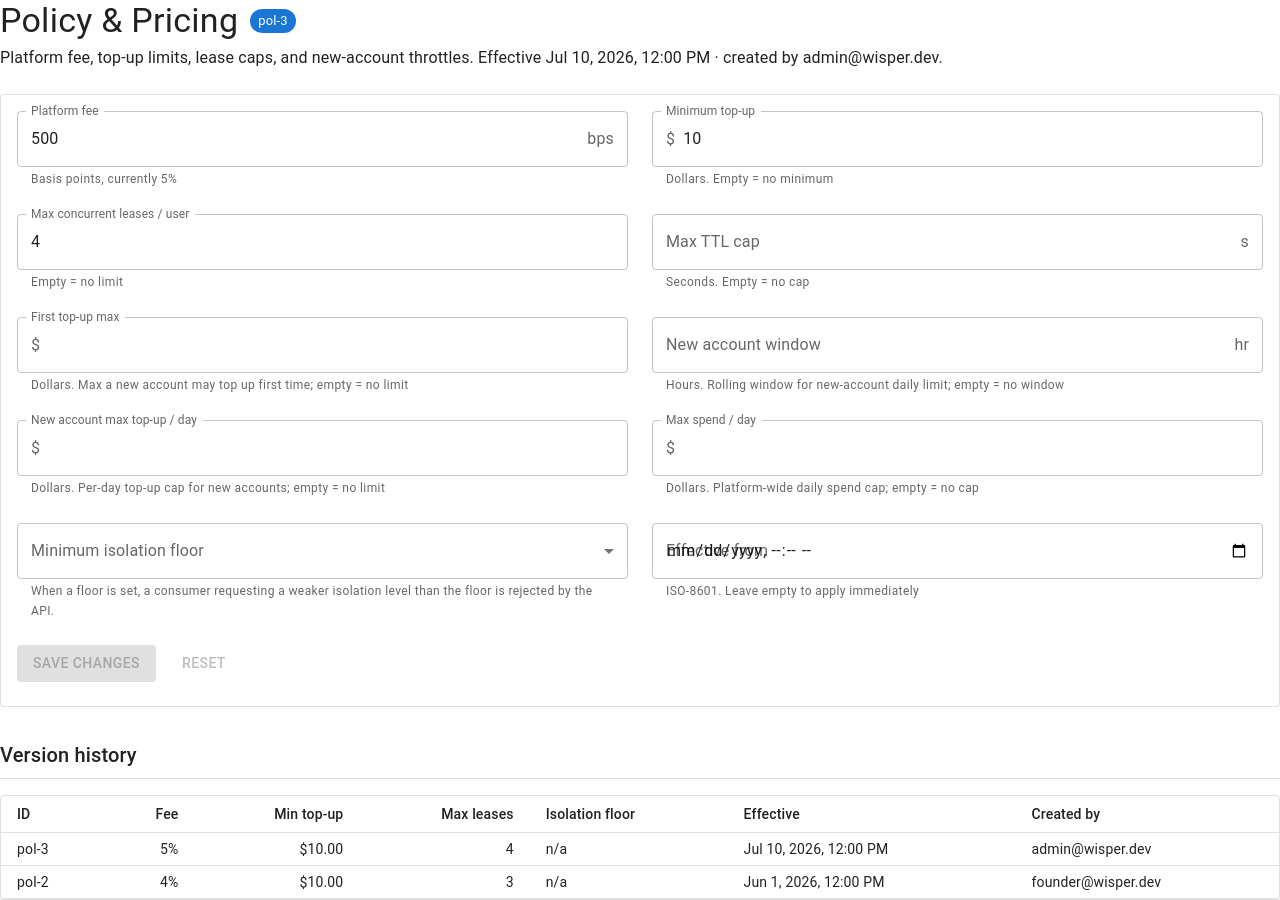
Test: PolicyEditor › blocks saving when fee_bps exceeds 10000
The width and height of the screenshot is (1280, 900).
Replace the text in the number field labelled "Platform fee" with "10001". click: (298, 139)
box: top-left (17, 111), bottom-right (579, 167)
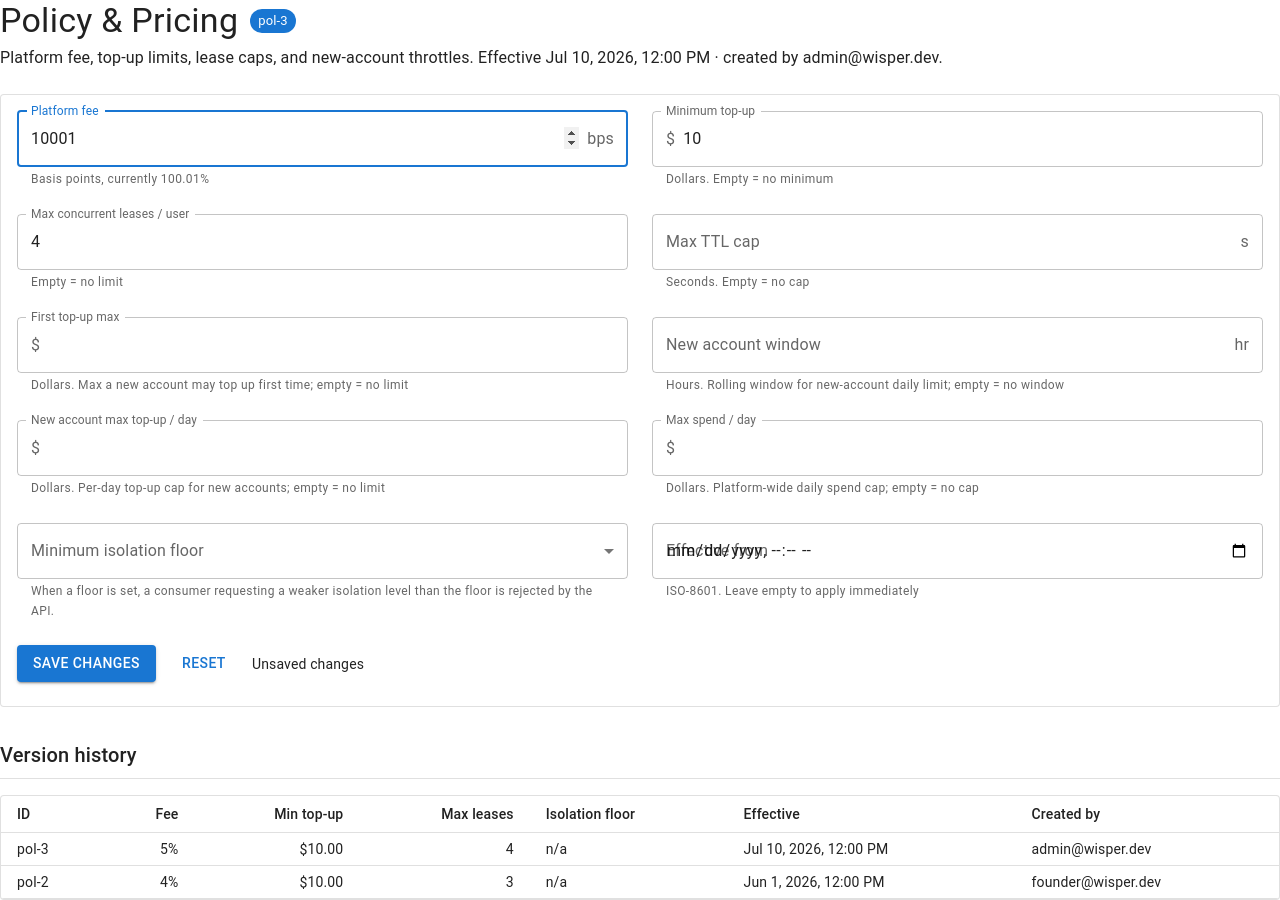
Click the button "Save changes". click: click(86, 664)
box: top-left (17, 645), bottom-right (156, 682)
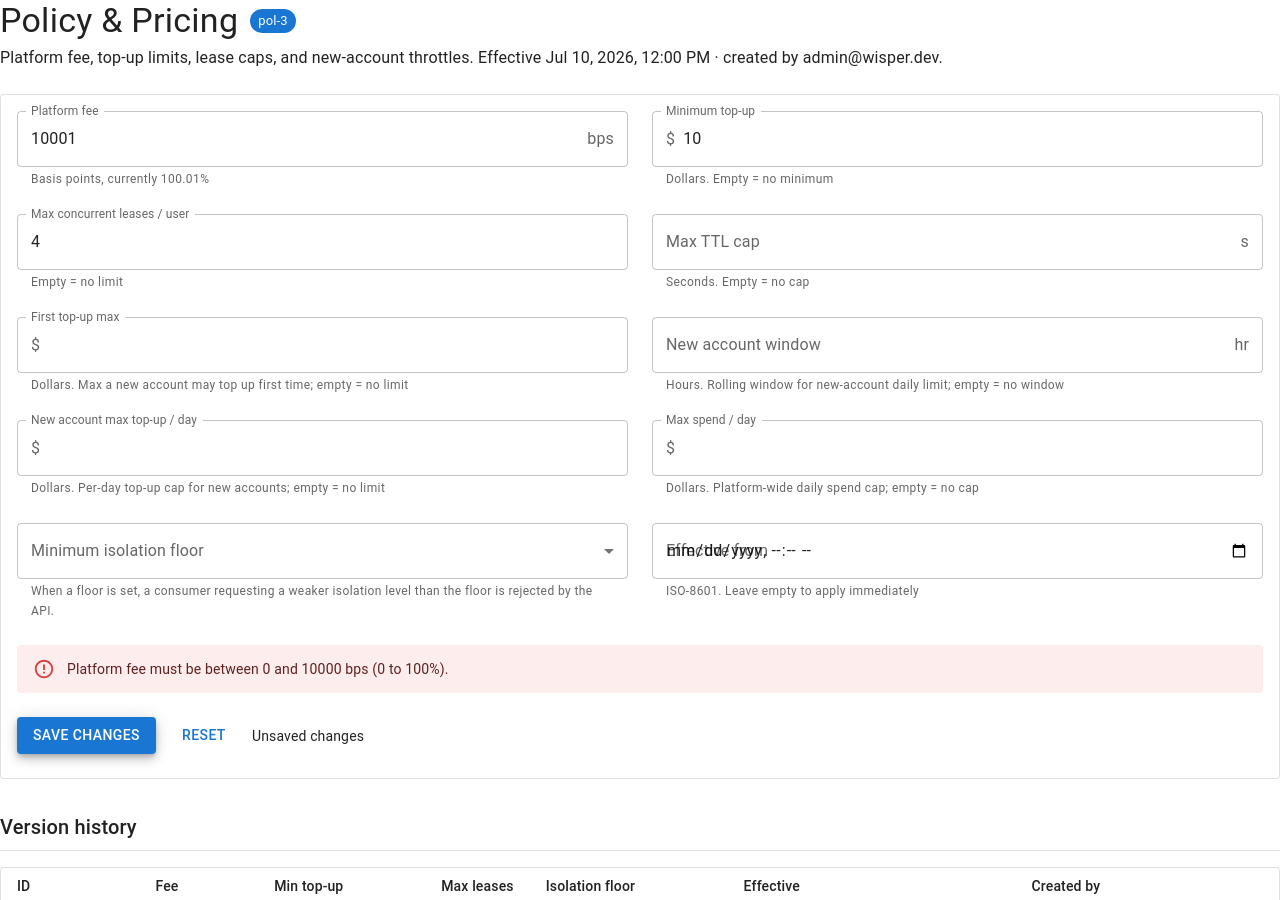
expect the text "Platform fee must be between 0 and 10000 bps (0 to 100%)." is shown: met, box top-left (67, 661), bottom-right (449, 677)
